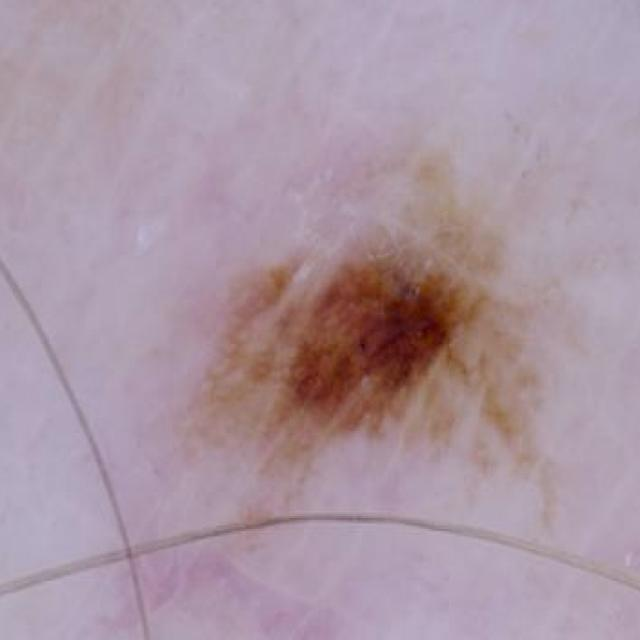NV: (191, 211, 537, 517)
